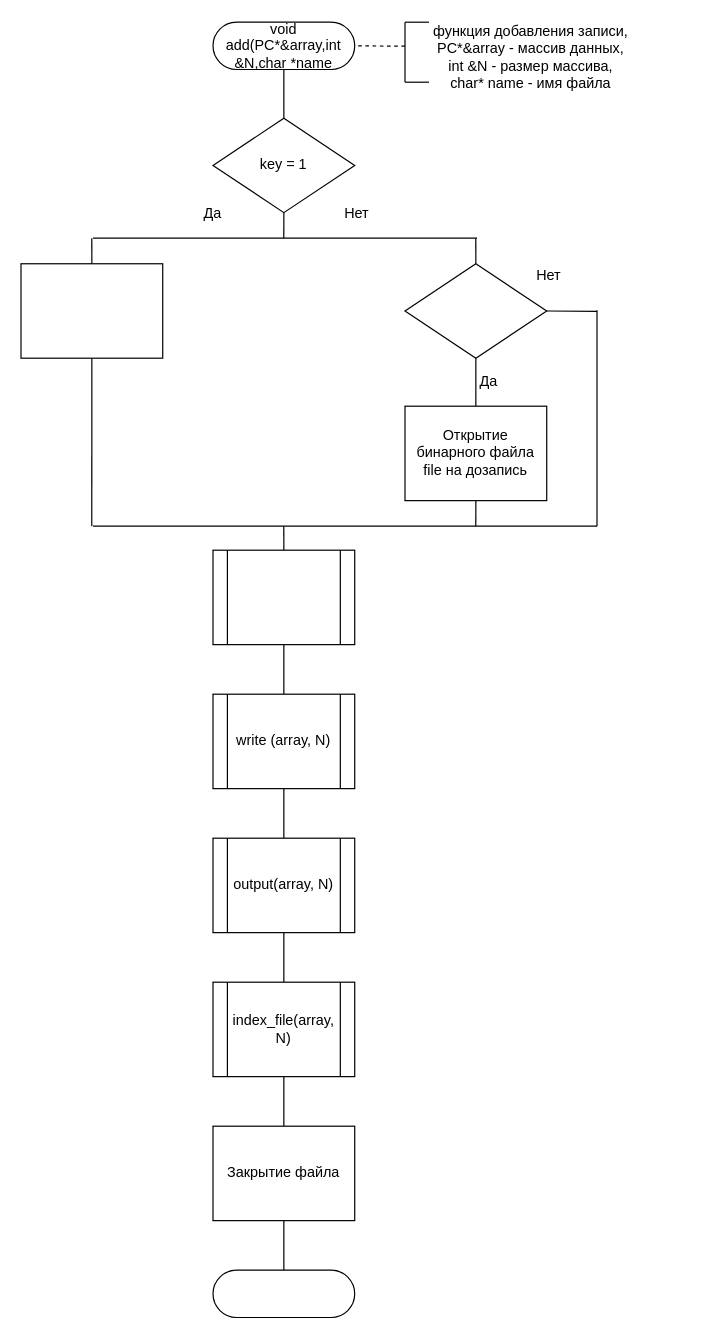
Image size: 702x1339. Some labels were removed from this diagram. The shapes that lost their labels are listed below. From the top down, each one's box as (x1, y1, x2, y2) in pixels, then its label:
(20, 263, 163, 358): Открытие текстового файла file на дозапись
(404, 263, 547, 358): key = 0
(212, 549, 355, 645): input(array, N)
(212, 1269, 355, 1317): Конец
